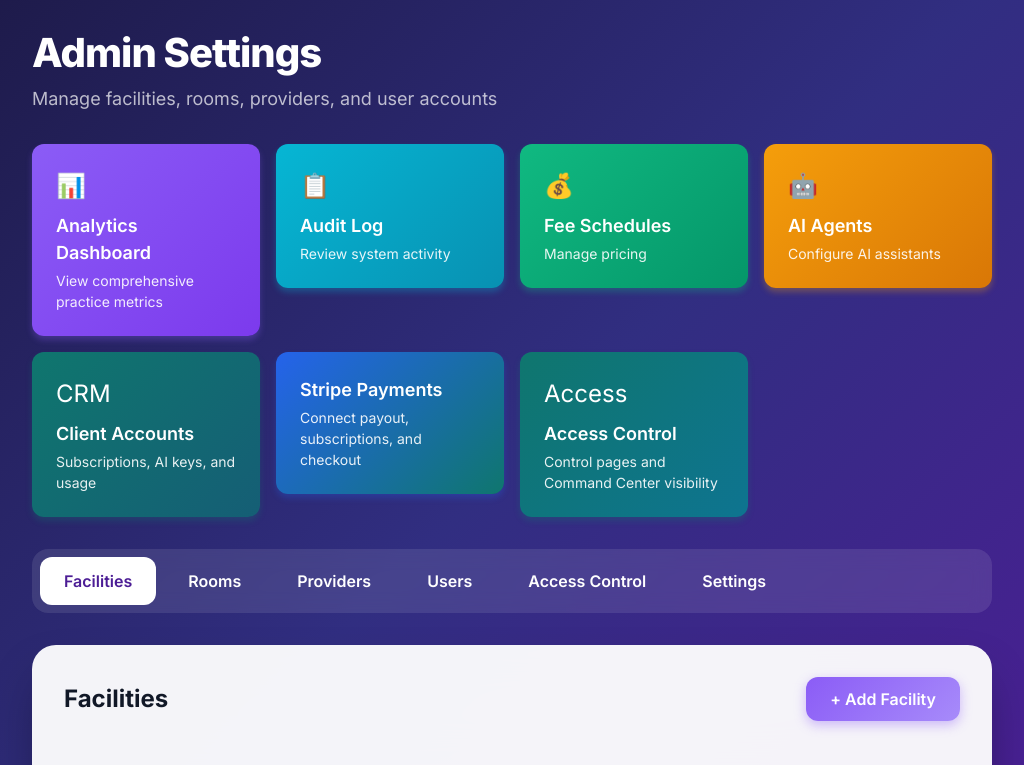
Test: AdminPage › should show room type in rooms table
The image size is (1024, 765).
Click the button "Rooms" at (215, 581), box [164,557,265,605]
(page scrolled)
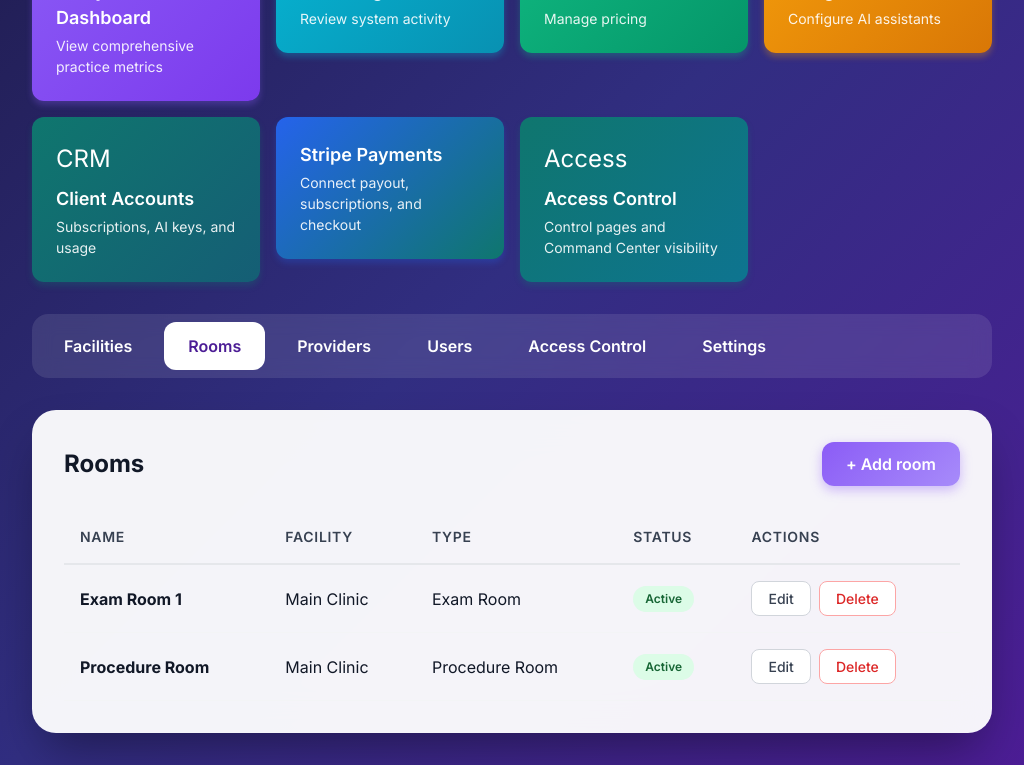
Expected: the text "Exam Room 1" is shown, [80,588,182,608]
Expected: the text "Exam Room" is shown, [416,564,617,632]
Expected: the text "Procedure Room" is shown, [80,656,209,676]
